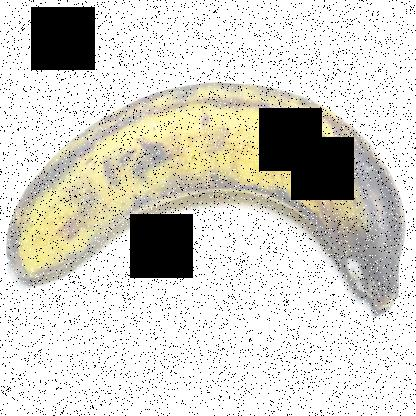overripe: (1, 62, 413, 348)
rotten: (294, 138, 415, 326)
